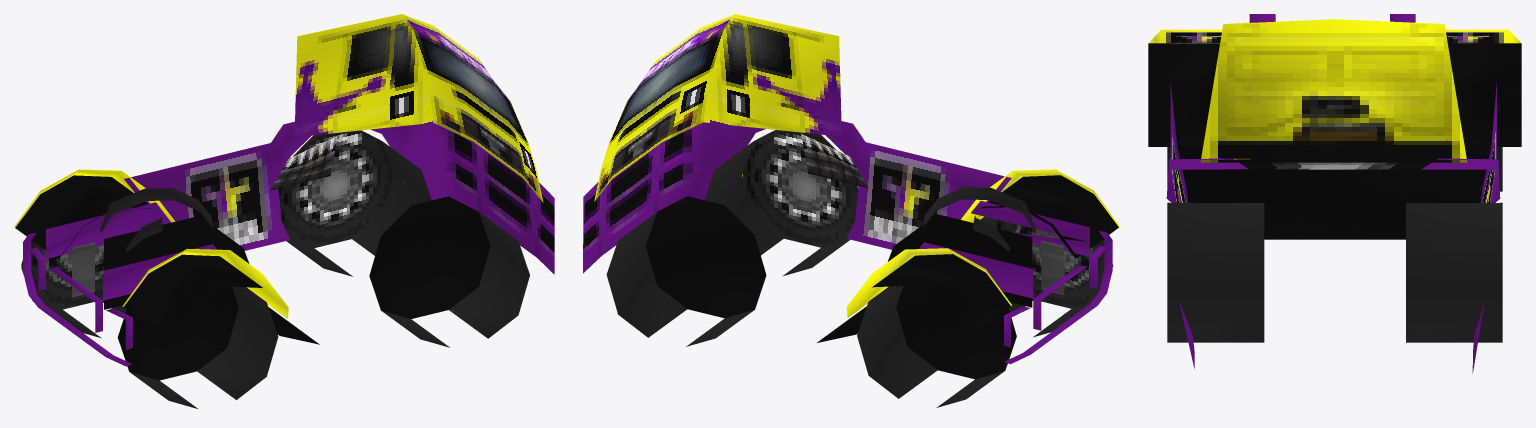
The model's file is ps2_save-icons_supertrucksracing.glb.
3 renders of one model, left to right at view 1: azimuth 30°, elevation 25°; view 2: azimuth 150°, elevation 25°; view 3: azimuth 270°, elevation 25°, orthographic. The views are drawn at different scales.
Visible parts, largest first — view 1: trucks.ico; view 2: trucks.ico; view 3: trucks.ico.
Part boxes in pixels (<box>): trucks.ico: <box>14,14,554,408</box>; trucks.ico: <box>583,14,1119,407</box>; trucks.ico: <box>1148,14,1521,373</box>.
Size of the model in its own units: 4.93 by 2.62 by 2.96.
Materials: 1 (1 with a texture image).
